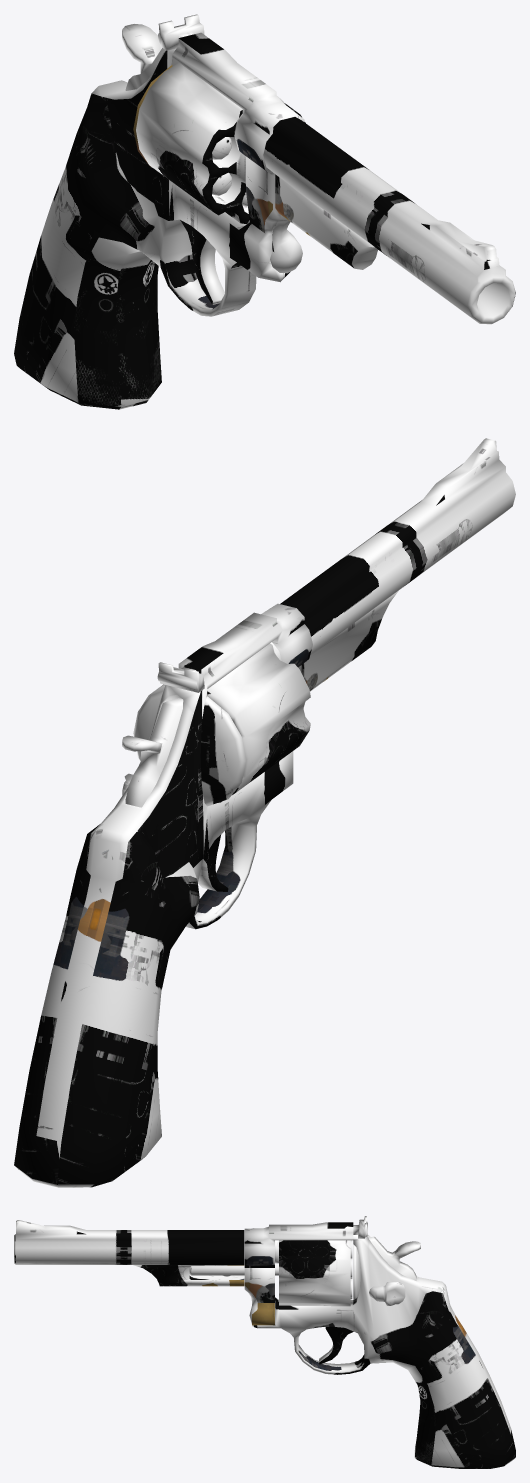
File: Weapons_Pistol_44Magnum01_LOD0.glb
3 renders of one model, top to bottom at view 1: azimuth 30°, elevation 25°; view 2: azimuth 150°, elevation 25°; view 3: azimuth 270°, elevation 25°, orthographic. The views are drawn at different scales.
Parts seen in each view (by area): view 1: Hoodie; view 2: Hoodie; view 3: Hoodie.
Boxes of the visible parts, bbox=[...] form: Hoodie: bbox=[14, 14, 515, 409]; Hoodie: bbox=[14, 438, 515, 1187]; Hoodie: bbox=[14, 1216, 515, 1468].
Size of the model in its own units: 0.046 by 0.1626 by 0.3149.
1 material, 1 textured.
